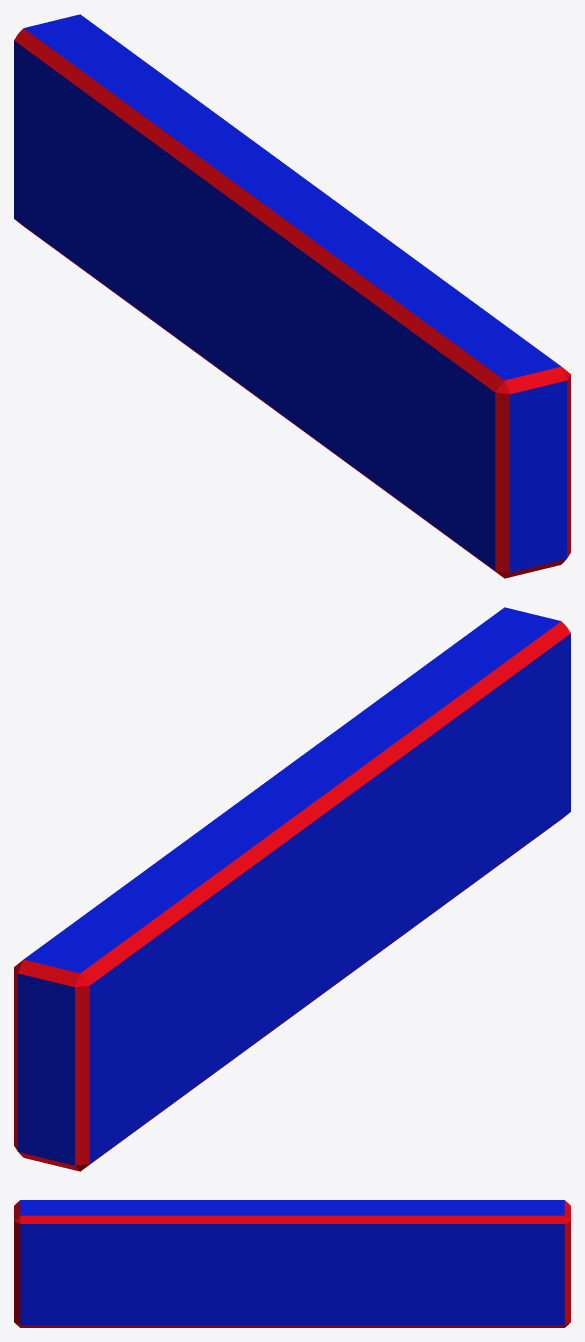
Rendered from L14_LMedium_Platform.fbx.
3 renders of one model, top to bottom at view 1: azimuth 30°, elevation 25°; view 2: azimuth 150°, elevation 25°; view 3: azimuth 270°, elevation 25°, orthographic. The views are drawn at different scales.
Visible parts, largest first — view 1: L14_LMedium_Platform; view 2: L14_LMedium_Platform; view 3: L14_LMedium_Platform.
Part boxes in pixels (<box>): L14_LMedium_Platform: <box>14,14,570,578</box>; L14_LMedium_Platform: <box>14,607,570,1171</box>; L14_LMedium_Platform: <box>14,1200,570,1327</box>.
Bounding box in the file's own units: 40 × 100 × 450.
